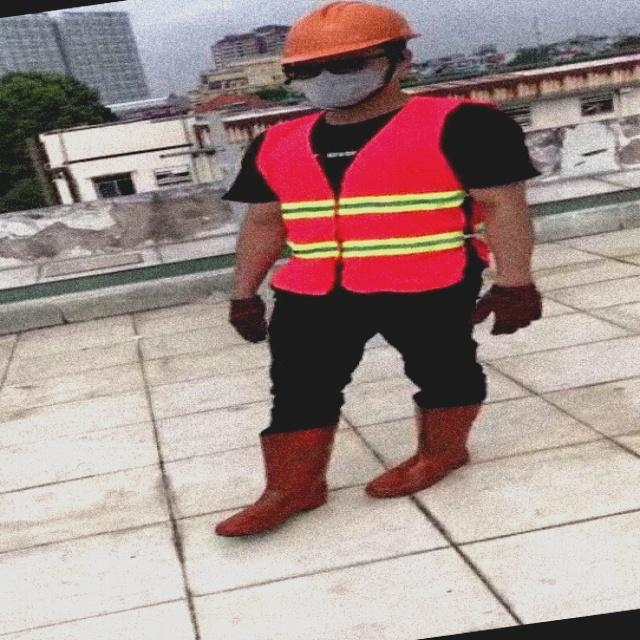helmet: (276, 0, 422, 70)
safety_vest: (246, 90, 496, 298)
